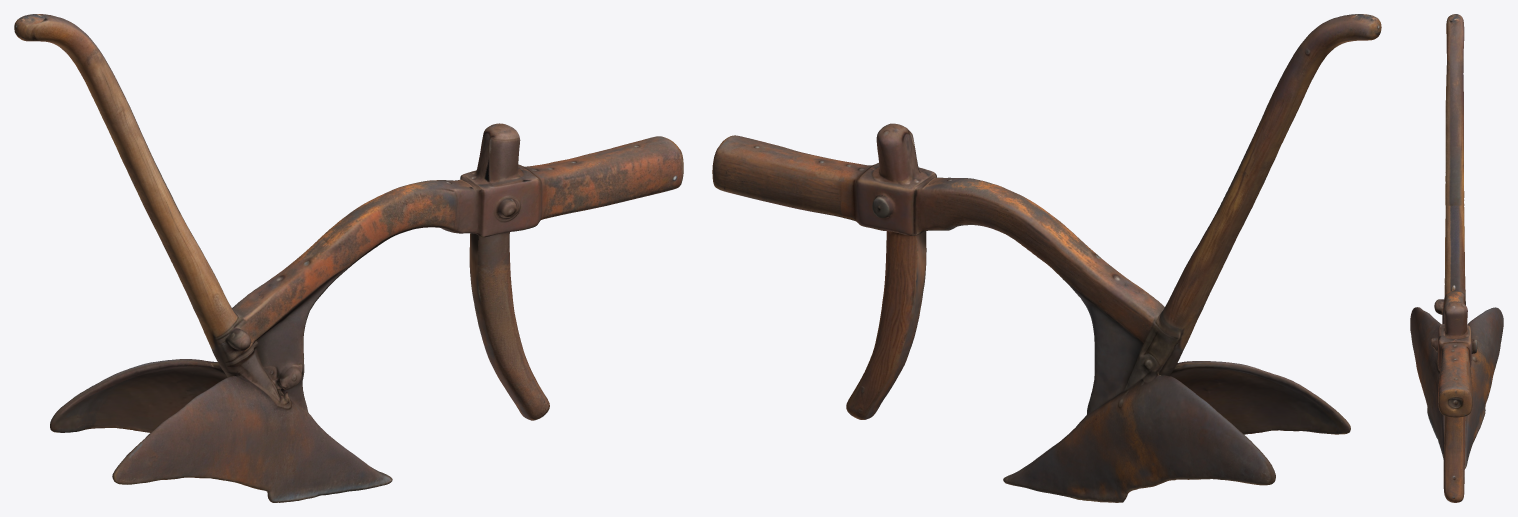
The model's file is a220_karasaban.glb.
3 renders of one model, left to right at view 1: azimuth 30°, elevation 25°; view 2: azimuth 150°, elevation 25°; view 3: azimuth 270°, elevation 25°, orthographic. The views are drawn at different scales.
Size of the model in its own units: 2 by 1.61 by 0.391.
Materials: 1 (1 with a texture image).
